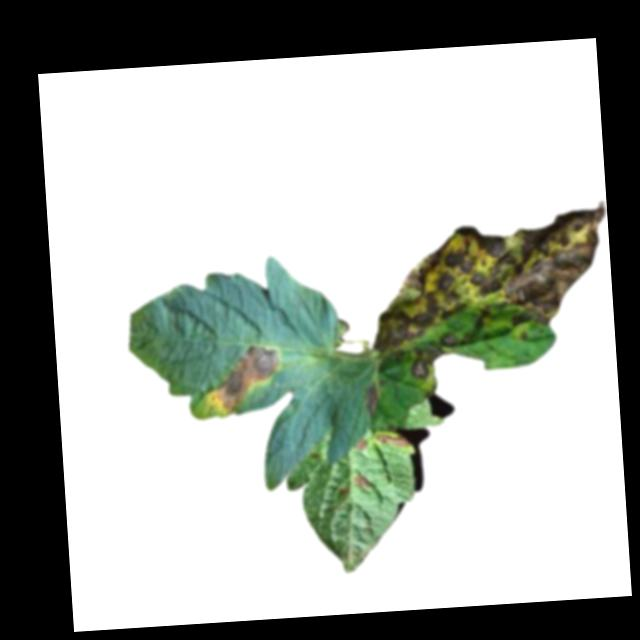Early_blight: (364, 201, 610, 350), (207, 341, 287, 417), (409, 344, 458, 382), (374, 433, 414, 449), (362, 384, 382, 414), (351, 474, 373, 494), (353, 437, 369, 451)
